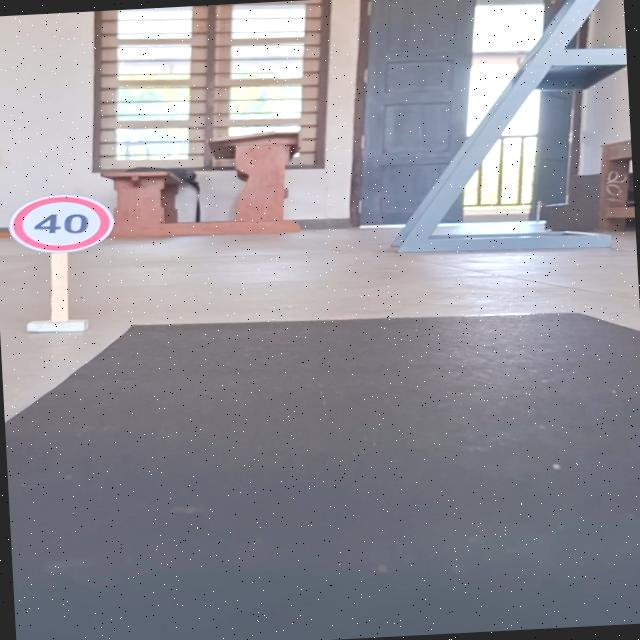Speed40: (6, 190, 119, 258)
